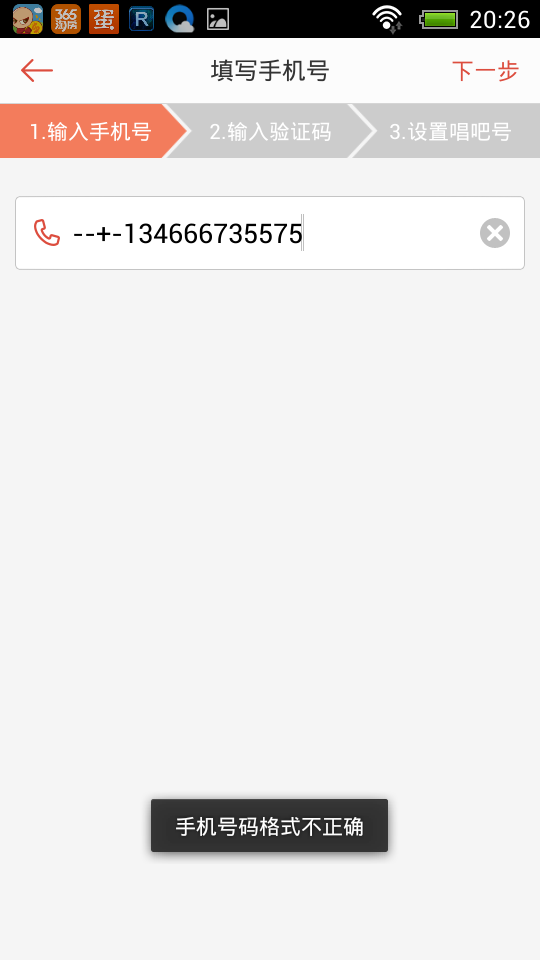alert: (128, 791, 410, 871)
nav: (6, 99, 540, 166)
textview: (1, 198, 374, 270)
